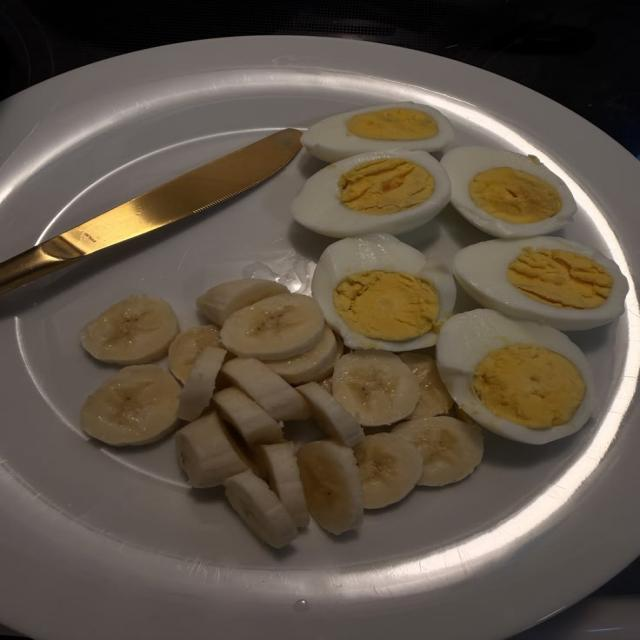banana slice: (81, 365, 180, 446), (221, 293, 324, 360), (82, 295, 178, 365), (333, 350, 419, 427), (297, 439, 363, 534), (224, 470, 297, 547), (223, 358, 310, 421), (176, 412, 249, 486), (354, 433, 423, 508), (264, 324, 341, 384), (257, 442, 309, 527), (197, 279, 289, 327), (213, 387, 283, 448), (297, 382, 363, 446), (177, 346, 226, 421), (400, 352, 453, 418), (169, 325, 220, 384)
egg boiled: (437, 310, 593, 444), (312, 234, 456, 351), (454, 237, 628, 330), (292, 151, 450, 238), (441, 147, 576, 237), (301, 102, 453, 162)
